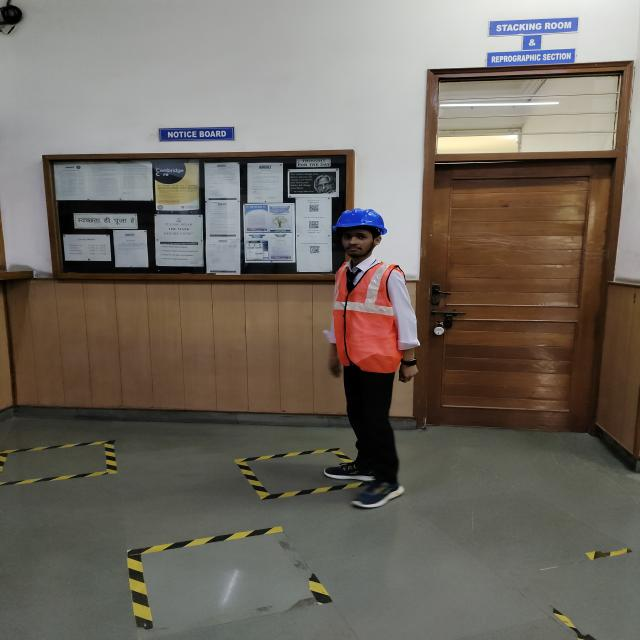safe: (327, 208, 421, 508)
